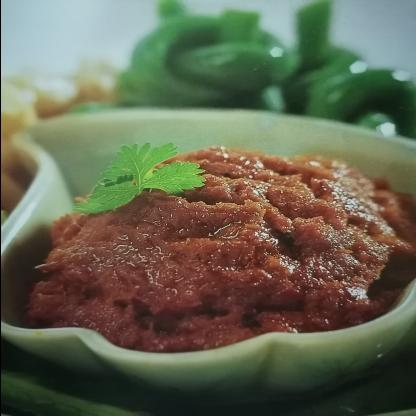Namprig: (6, 138, 412, 341)
